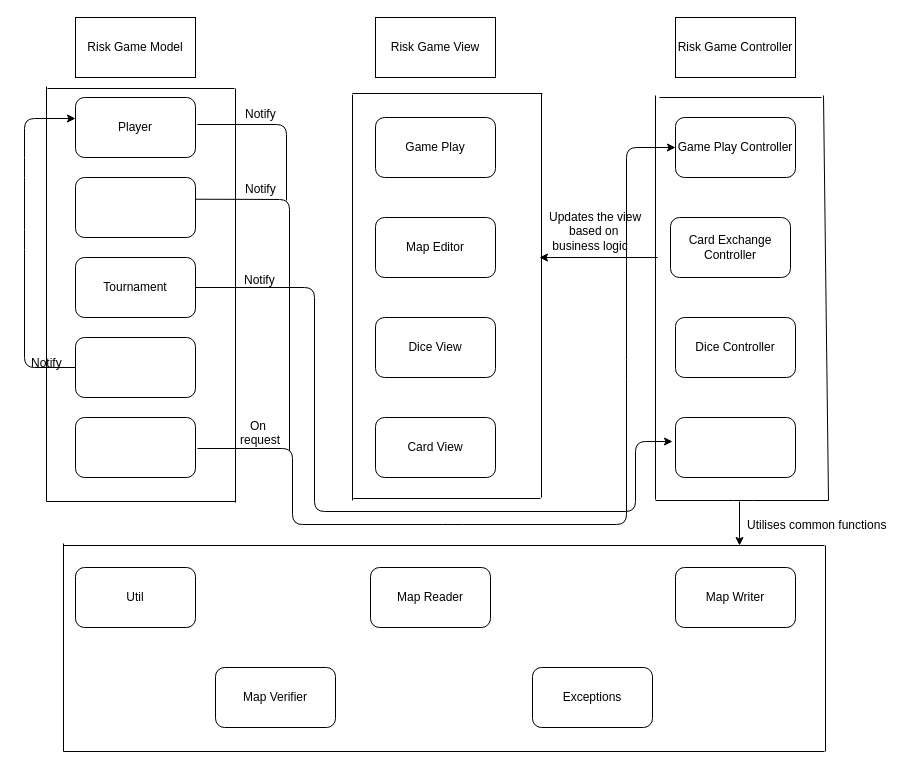
The diagram is 912 pixels wide and 770 high, and some of its shapes have lost their labels. Each missing label, with the centre of its shape:
Card: point (135, 207)
Dice: point (135, 367)
Tournament Controller: point (735, 447)
World Domination: point (135, 447)
